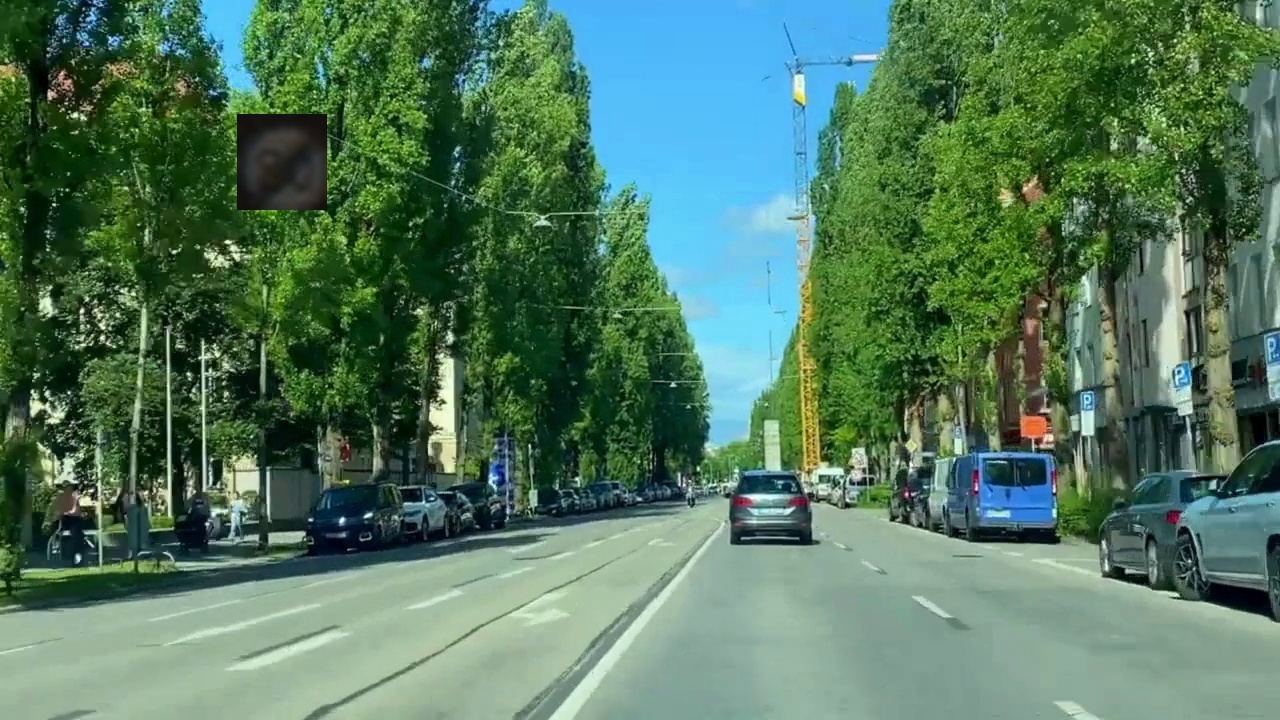End Speed 80: (237, 114, 327, 210)
